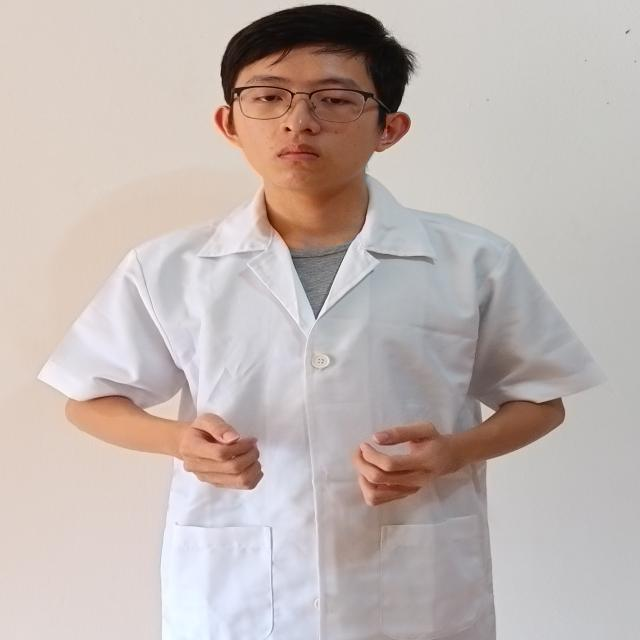person_with_labcoat: (39, 5, 602, 640)
